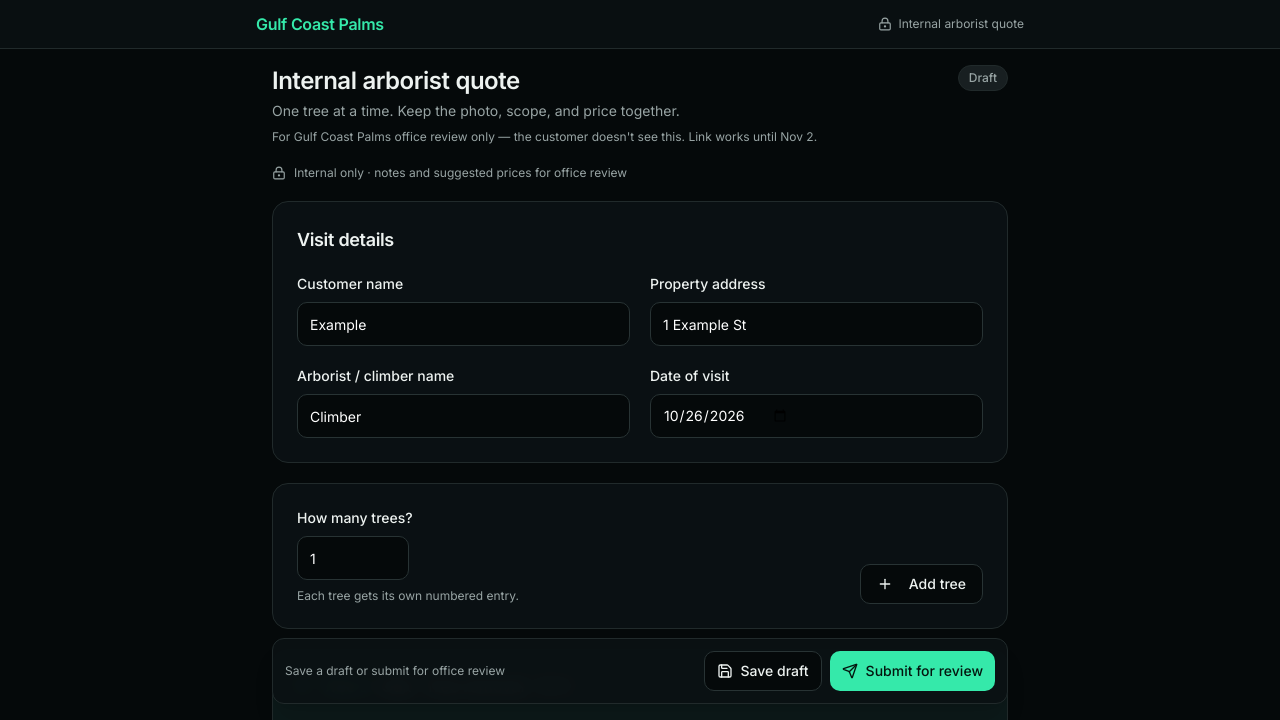
arborist guest quote link › opens the standalone form, supports five trees with photo inputs, and saves a draft with the expected version
Later steps or results of the test are not shown.
Check: the heading "Internal arborist quote" is shown, box [272,66,520,95]
Check: the text "Gulf Coast Palms" is shown, box [256,12,384,36]
Replace the text in the number field labelled "How many trees?" with "5" at (353, 558), box [297,536,409,580]
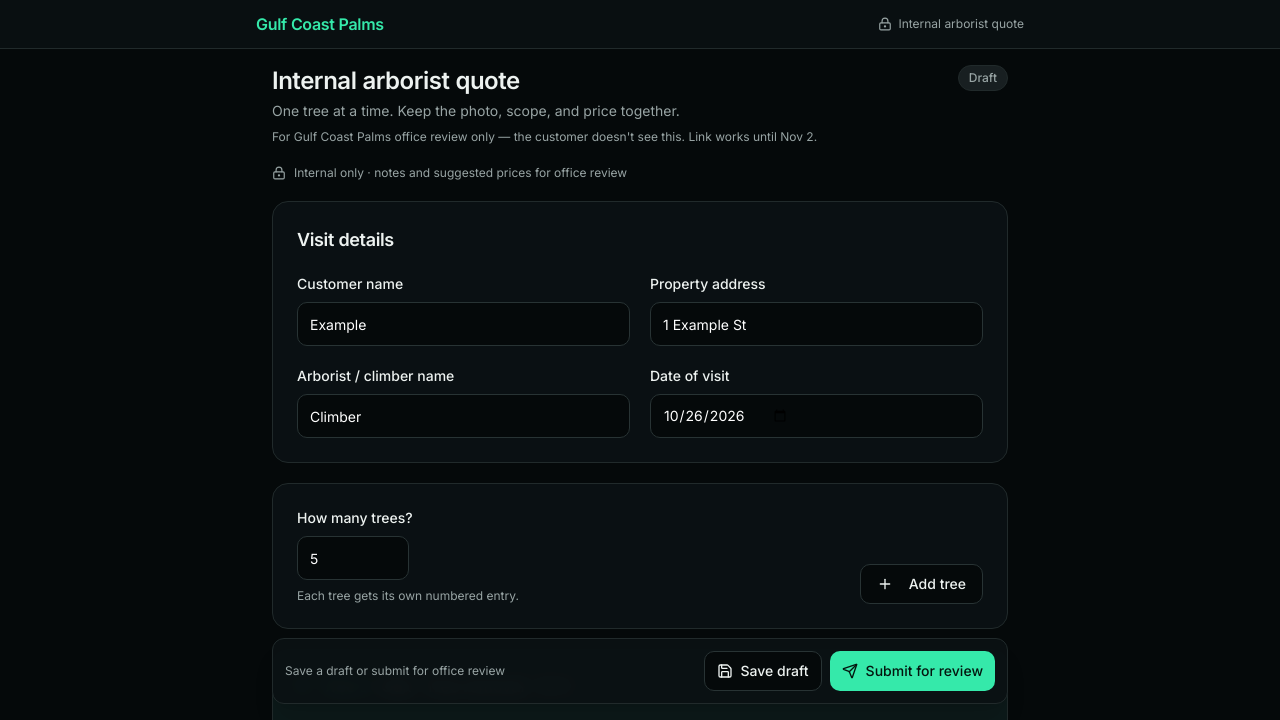
Leave the number field labelled "How many trees?", box [297,536,409,580]
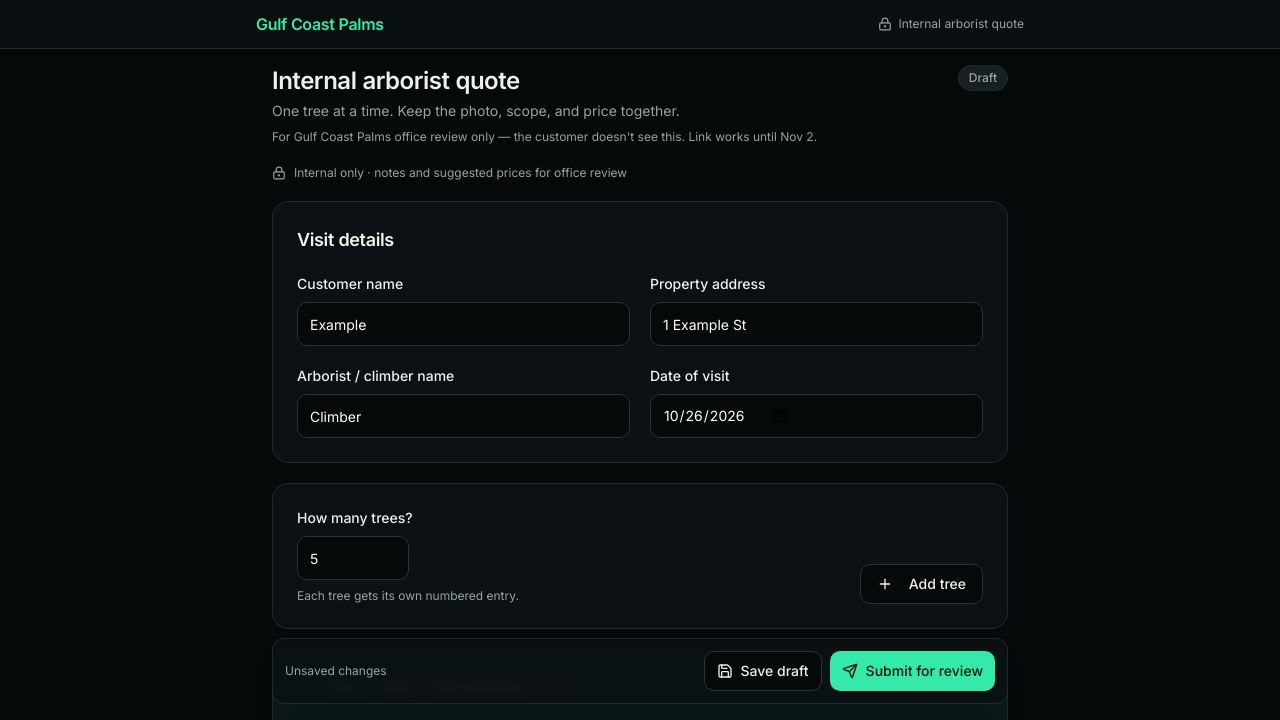
Check: the number of elements with test id "arborist-tree" is 5
